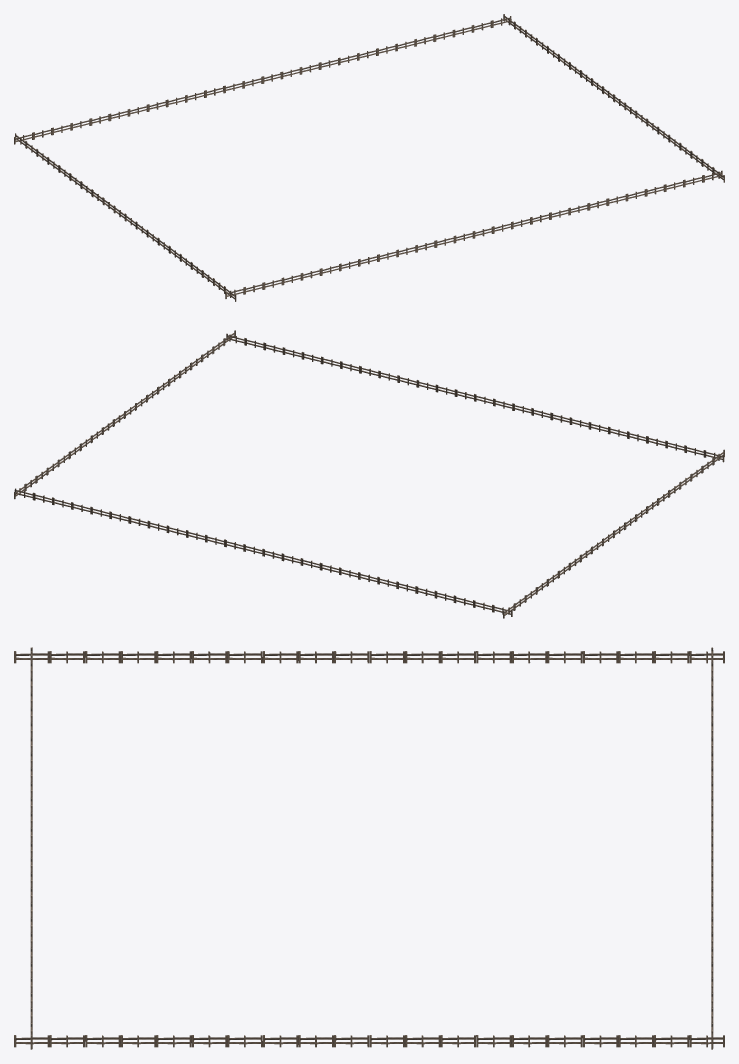
The model's file is fence.glb.
3 views of the same model, one above another, from view 1: azimuth 30°, elevation 25°; view 2: azimuth 150°, elevation 25°; view 3: azimuth 270°, elevation 25° (orthographic). The views are drawn at different scales.
Visible parts, largest first — view 1: Object_2.006; view 2: Object_2.006; view 3: Object_2.006.
Part boxes in pixels (x1,y1,x2,y2): Object_2.006: [14, 14, 724, 301]; Object_2.006: [14, 330, 724, 618]; Object_2.006: [14, 647, 724, 1049].
Bounding box in the file's own units: 163 × 2.26 × 126.
Materials: 4 (4 with a texture image).
